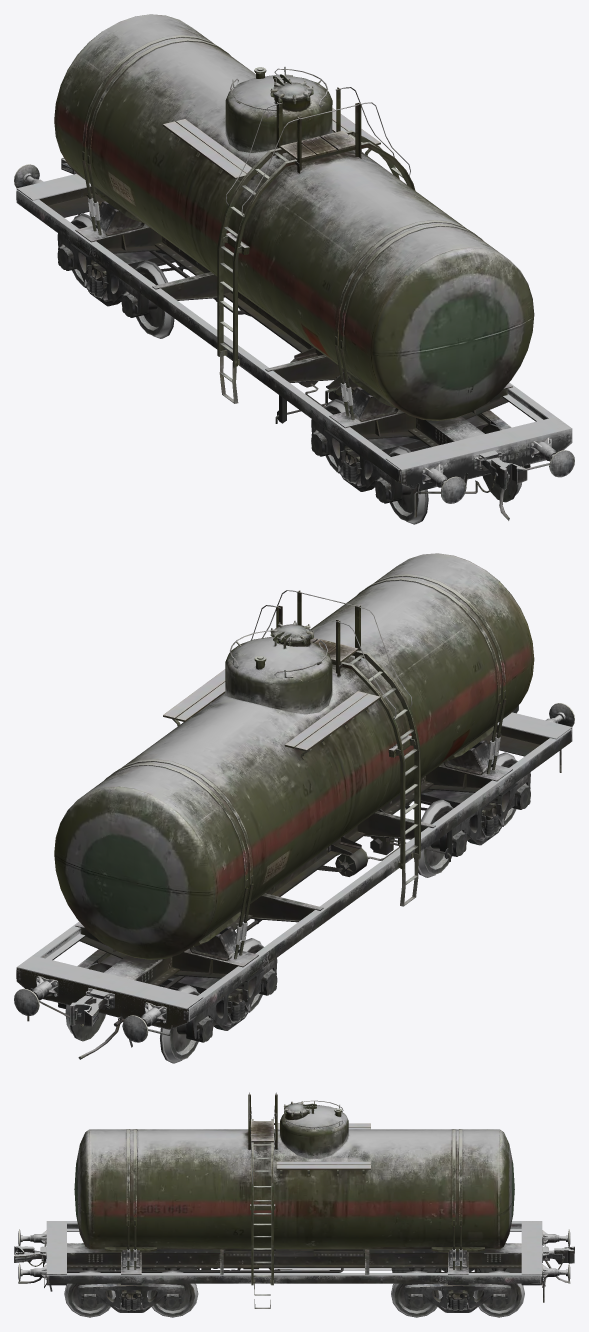
Rendered from tank-ussr.glb.
3 renders of one model, top to bottom at view 1: azimuth 30°, elevation 25°; view 2: azimuth 150°, elevation 25°; view 3: azimuth 270°, elevation 25°, orthographic. The views are drawn at different scales.
Visible parts, largest first — view 1: Object_3, Object_2, Object_4; view 2: Object_3, Object_2, Object_4; view 3: Object_3, Object_2, Object_4.
Boxes of the visible parts, x1,y1,x2,y2 form: Object_3: (54,14,534,503); Object_2: (14,164,574,524); Object_4: (57,87,415,368); Object_3: (54,553,534,959); Object_2: (14,703,574,1063); Object_4: (58,590,420,1042); Object_3: (14,1093,514,1312); Object_2: (18,1221,570,1317); Object_4: (249,1092,574,1312).
Bounding box in the file's own units: 3.02 × 4.79 × 12.23.
Materials: 1 (1 with a texture image).
